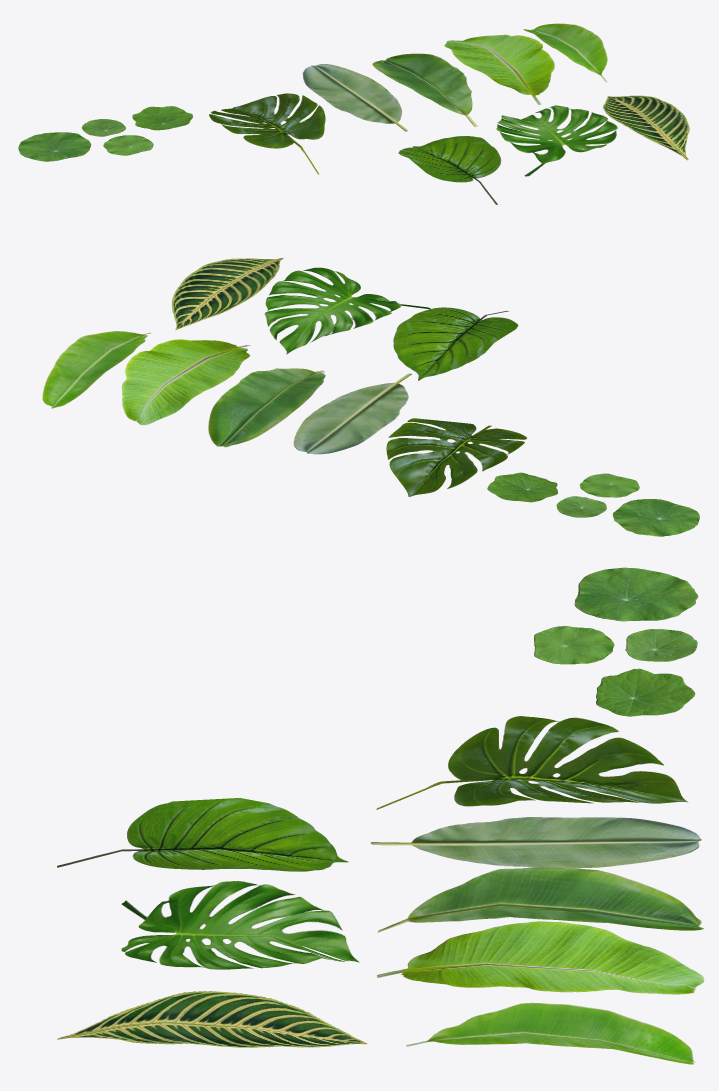
Rendered from woc_obj_leaf_01.fbx.
3 renders of one model, top to bottom at view 1: azimuth 30°, elevation 25°; view 2: azimuth 150°, elevation 25°; view 3: azimuth 270°, elevation 25°, orthographic. The views are drawn at different scales.
Visible parts, largest first — view 1: polySurface11, polySurface10, polySurface7, pPlane9, polySurface1, polySurface5, polySurface4, polySurface2, pPlane2, polySurface3, polySurface12, polySurface8; view 2: polySurface11, polySurface10, polySurface7, polySurface5, polySurface1, pPlane9, polySurface4, polySurface2, pPlane2, polySurface3, polySurface12, polySurface8; view 3: polySurface11, polySurface10, polySurface7, polySurface5, polySurface1, pPlane9, polySurface4, polySurface2, pPlane2, polySurface3, polySurface12, polySurface8.
Boxes of the visible parts, <box> form: polySurface11: <box>444,34,554,104</box>; polySurface10: <box>209,93,325,174</box>; polySurface7: <box>496,105,617,176</box>; pPlane9: <box>302,64,407,131</box>; polySurface1: <box>372,53,477,126</box>; polySurface5: <box>398,136,501,204</box>; polySurface4: <box>603,95,689,160</box>; polySurface2: <box>523,23,607,82</box>; pPlane2: <box>18,132,91,161</box>; polySurface3: <box>132,106,192,130</box>; polySurface12: <box>103,135,153,155</box>; polySurface8: <box>82,119,125,136</box>; polySurface11: <box>121,339,250,425</box>; polySurface10: <box>386,418,527,496</box>; polySurface7: <box>264,267,430,354</box>; polySurface5: <box>393,307,518,380</box>; polySurface1: <box>208,368,325,447</box>; pPlane9: <box>293,373,411,454</box>; polySurface4: <box>171,257,283,330</box>; polySurface2: <box>42,331,151,408</box>; pPlane2: <box>613,499,699,536</box>; polySurface3: <box>487,472,557,502</box>; polySurface12: <box>579,473,639,497</box>; polySurface8: <box>556,496,606,517</box>; polySurface11: <box>377,921,704,994</box>; polySurface10: <box>376,716,688,809</box>; polySurface7: <box>121,880,359,969</box>; polySurface5: <box>57,798,348,871</box>; polySurface1: <box>377,867,703,932</box>; pPlane9: <box>370,817,701,868</box>; polySurface4: <box>57,991,367,1047</box>; polySurface2: <box>406,1002,695,1064</box>; pPlane2: <box>574,567,698,621</box>; polySurface3: <box>596,668,695,716</box>; polySurface12: <box>534,626,614,664</box>; polySurface8: <box>625,629,697,661</box>.
Size of what is drawn, in the model's own units: 100 by 5.87 by 59.24.
